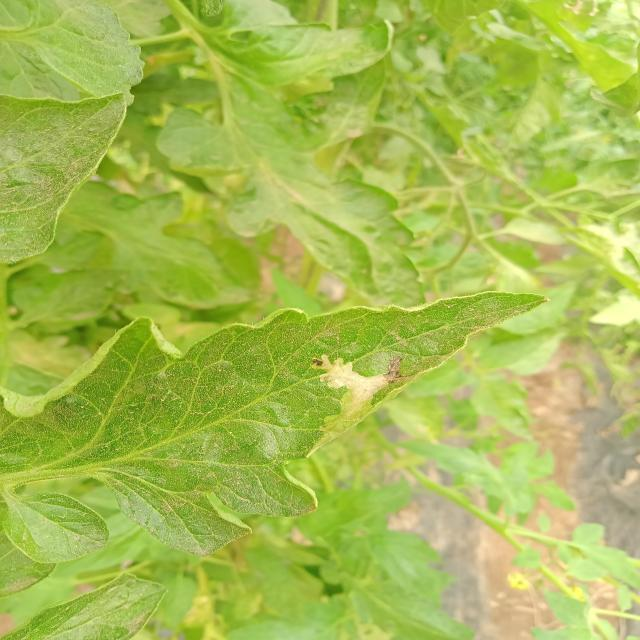Tuta absoluta: (311, 345, 416, 444)
